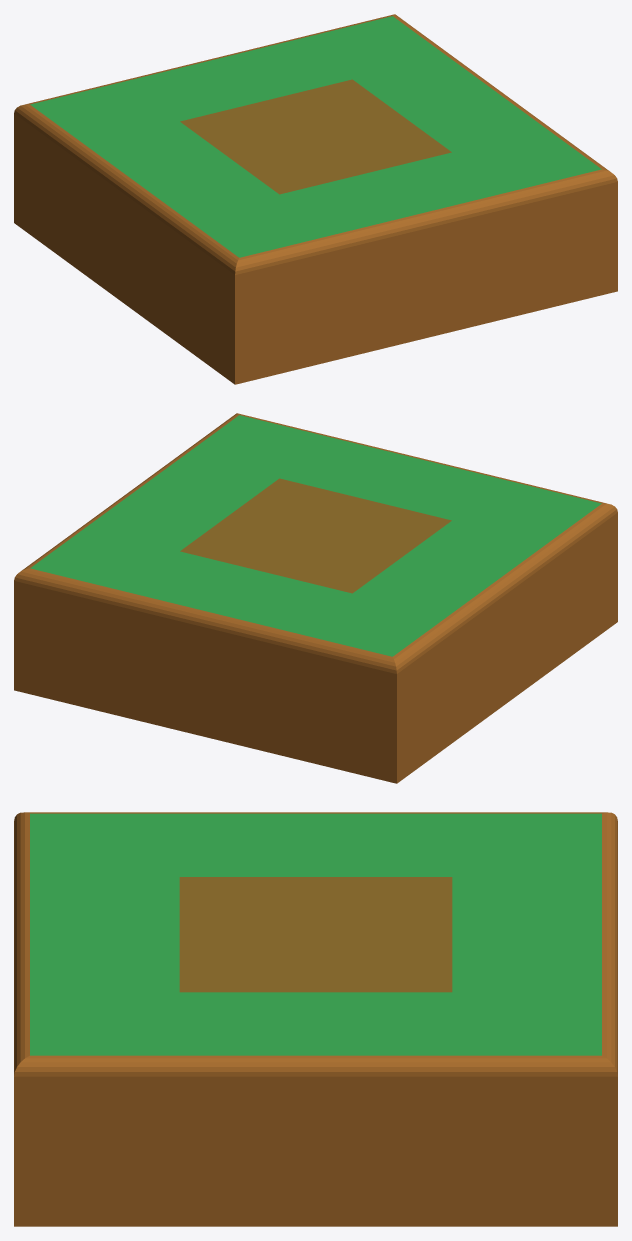
Rendered from Tile_MagicBean.fbx.
3 views of the same model, one above another, from view 1: azimuth 30°, elevation 25°; view 2: azimuth 150°, elevation 25°; view 3: azimuth 270°, elevation 25° (orthographic). The views are drawn at different scales.
Parts seen in each view (by area): view 1: Tile_MagicBean; view 2: Tile_MagicBean; view 3: Tile_MagicBean.
Boxes of the visible parts, <box> form: Tile_MagicBean: <box>14,14,617,384</box>; Tile_MagicBean: <box>14,413,617,783</box>; Tile_MagicBean: <box>14,812,617,1226</box>.
Bounding box in the file's own units: 200 × 60 × 200.
